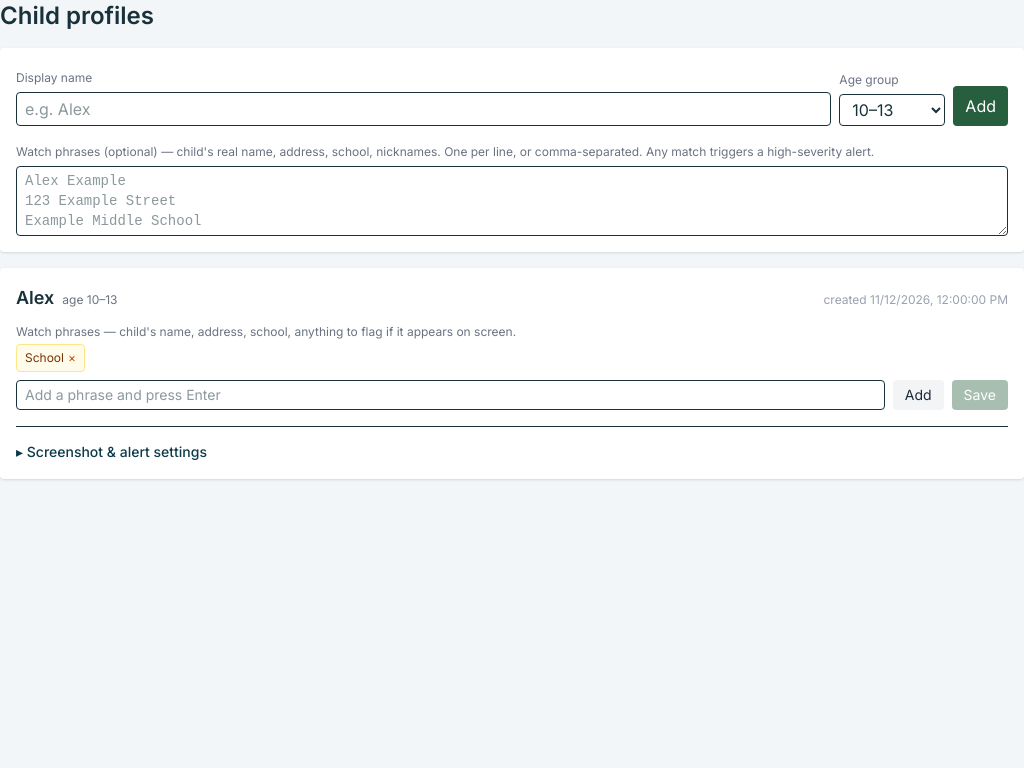
Scenario: profile policy editing › updates visible policy controls with the server age defaults after reset
The image size is (1024, 768).
Click the button "▸ Screenshot & alert settings" at (112, 452), box [16,442,207,462]
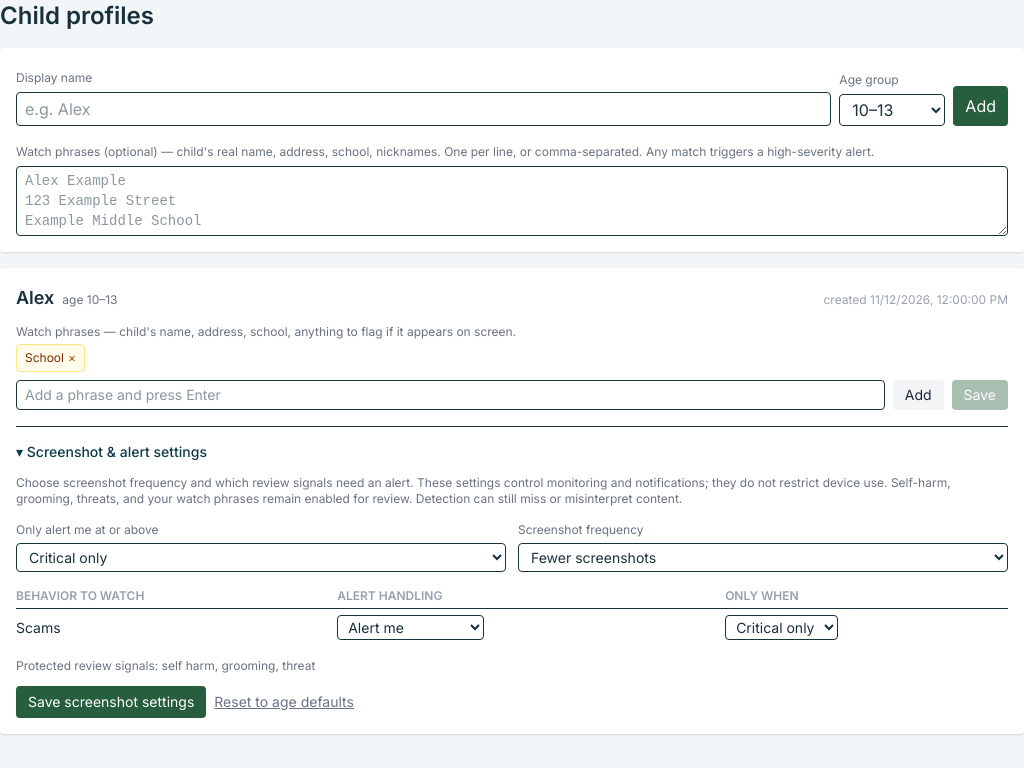
Expected: the dropdown labelled "Only alert me at or above" shows "Critical only", [16,543,506,572]
Click the button "Reset to age defaults" at (284, 702), box [214,692,354,712]
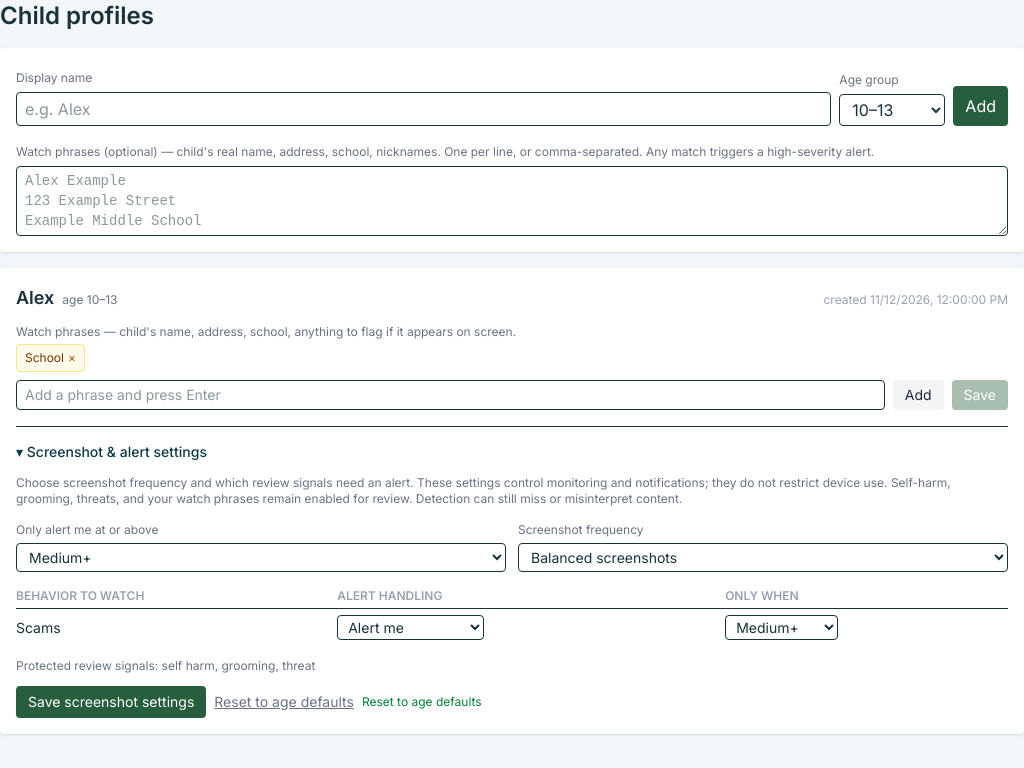
Expected: the dropdown labelled "Only alert me at or above" shows "Medium+", [16,543,506,572]
Expected: the dropdown labelled "Screenshot frequency" shows "Balanced screenshots", [518,543,1008,572]
